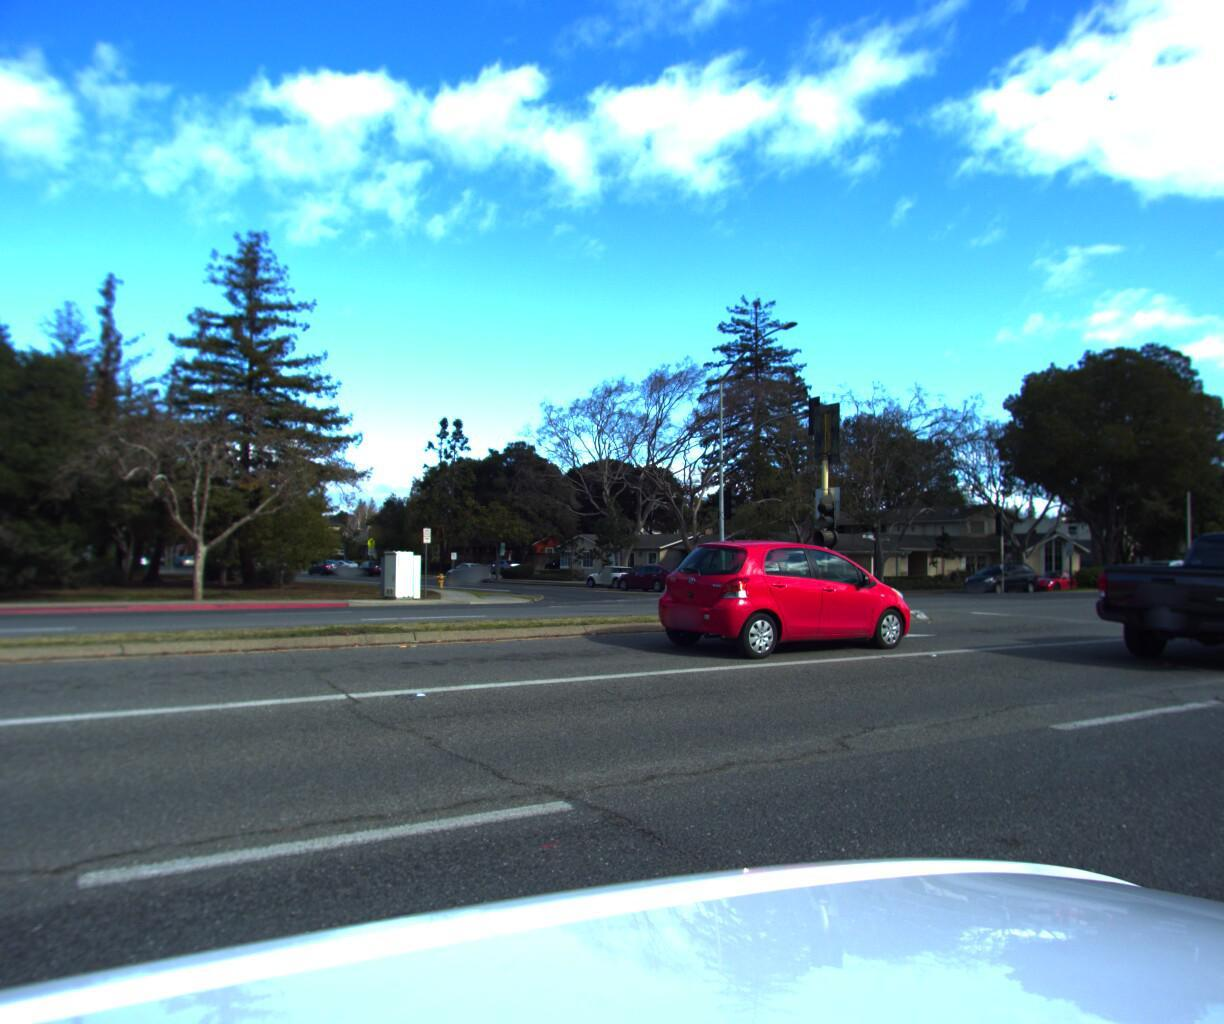car: (638, 534, 918, 664), (1080, 523, 1224, 681), (612, 555, 695, 592), (958, 559, 1039, 593), (1015, 564, 1088, 591), (584, 560, 642, 588), (444, 558, 494, 580), (306, 549, 347, 573), (349, 557, 391, 578), (324, 554, 363, 574)
